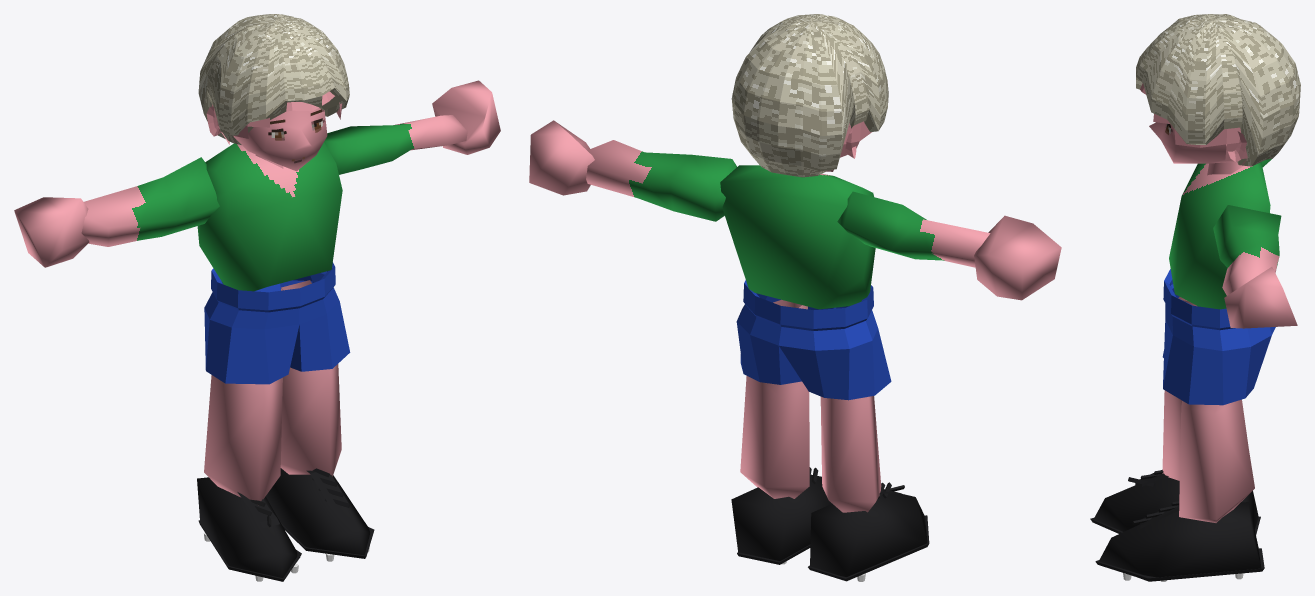
Rendered from 05-crespo-curto_loiro-pintado.glb.
The picture shows the model from 3 angles, left to right: view 1: azimuth 30°, elevation 25°; view 2: azimuth 150°, elevation 25°; view 3: azimuth 270°, elevation 25°; orthographic projection. The views are drawn at different scales.
Visible parts, largest first — view 1: Camisa_Tronco, Bermuda, Cabelo, Perna.R, Braco.R, Perna.L, Chuteira.R, Chuteira.L, Braco.L, Mao.R, Cabeca, Mao.L (+2 smaller); view 2: Cabelo, Camisa_Tronco, Bermuda, Perna.L, Braco.L, Chuteira.R, Perna.R, Braco.R, Mao.R, Chuteira.L, Mao.L, Chuteira_Sola.R; view 3: Cabelo, Bermuda, Chuteira.L, Camisa_Tronco, Perna.L, Braco.L, Mao.L, Chuteira.R, Perna.R, Cabeca, Couro_Cabeludo, Chuteira_Sola.L (+3 smaller).
Boxes of the visible parts, x1,y1,x2,y2 form: Camisa_Tronco: (197,142,342,291); Bermuda: (204,262,350,384); Cabelo: (198,14,349,144); Perna.R: (204,375,282,505); Braco.R: (81,157,219,246); Perna.L: (280,280,341,476); Chuteira.R: (197,477,300,577); Chuteira.L: (265,468,370,555); Braco.L: (324,115,467,174); Mao.R: (14,197,89,267); Cabeca: (233,108,327,171); Mao.L: (432,80,500,154); Cabelo: (731,14,888,177); Camisa_Tronco: (720,165,875,309); Bermuda: (736,280,891,400); Perna.L: (740,299,809,498); Braco.L: (586,140,736,221); Chuteira.R: (810,489,927,576); Perna.R: (820,396,881,512); Braco.R: (837,191,990,267); Mao.R: (974,215,1061,300); Chuteira.L: (731,474,831,560); Mao.L: (529,120,594,195); Chuteira_Sola.R: (808,515,929,581); Cabelo: (1136,14,1300,166); Bermuda: (1162,269,1275,405); Chuteira.L: (1099,502,1261,581); Camisa_Tronco: (1169,162,1270,309); Perna.L: (1179,400,1254,522); Braco.L: (1213,205,1281,295); Mao.L: (1224,267,1297,328); Chuteira.R: (1094,473,1258,531); Perna.R: (1162,297,1247,480); Cabeca: (1149,122,1238,163); Couro_Cabeludo: (1140,83,1247,164); Chuteira_Sola.L: (1095,548,1264,581).
Bounding box in the file's own units: 0.4523 × 0.4596 × 0.1641.
3 materials, 3 textured.
